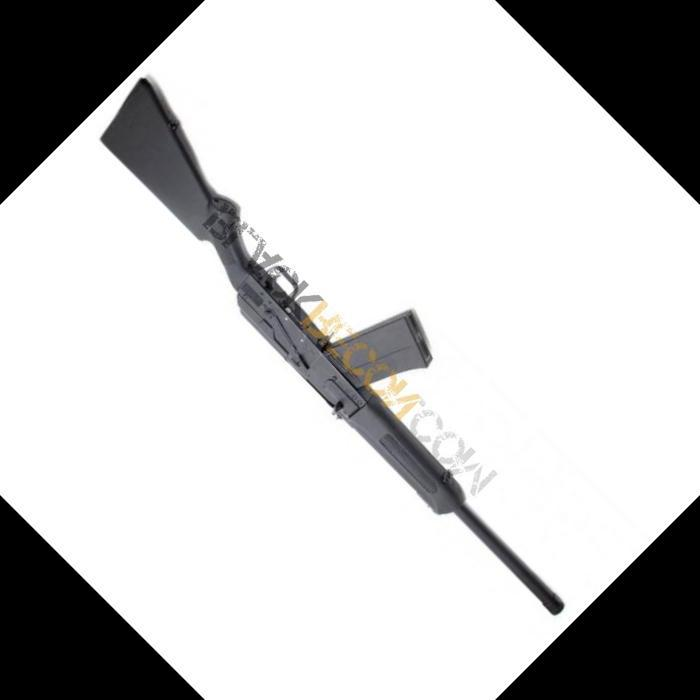larga: (98, 76, 568, 616)
